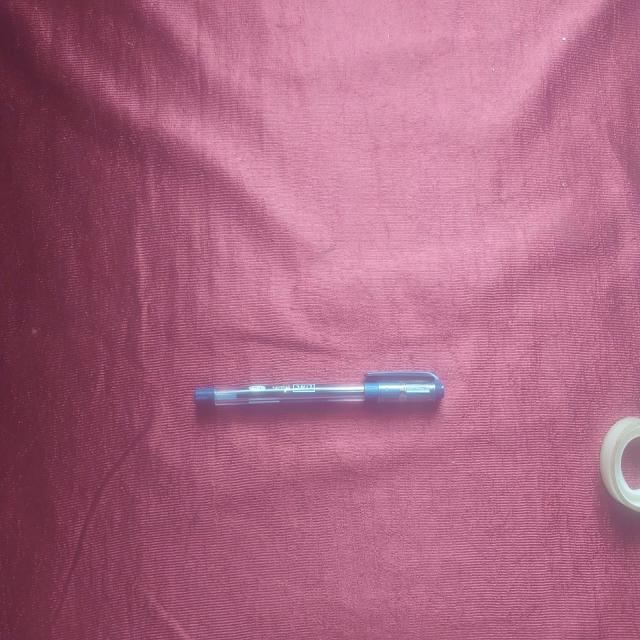blessing_card: (190, 366, 450, 417)
